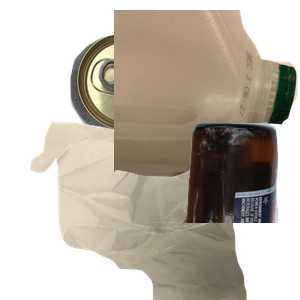glass: (87, 120, 300, 300)
metal: (68, 28, 237, 159)
plastic: (114, 10, 300, 179)
trash: (28, 120, 267, 300)
